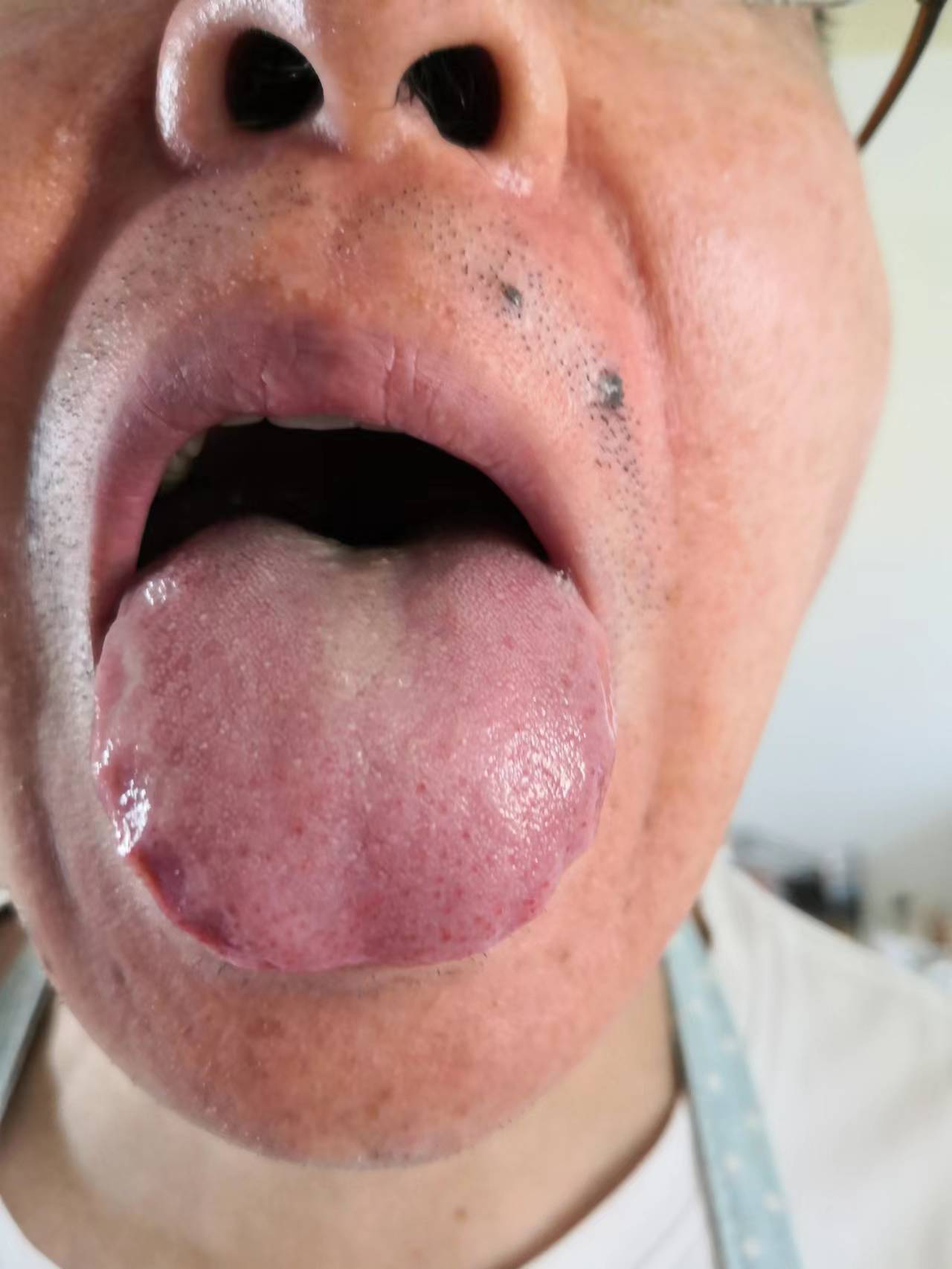baitaishe: (89, 511, 616, 975)
chihenshe: (92, 741, 158, 861), (123, 827, 188, 926)
hongdianshe: (289, 818, 306, 841), (413, 777, 427, 794)
